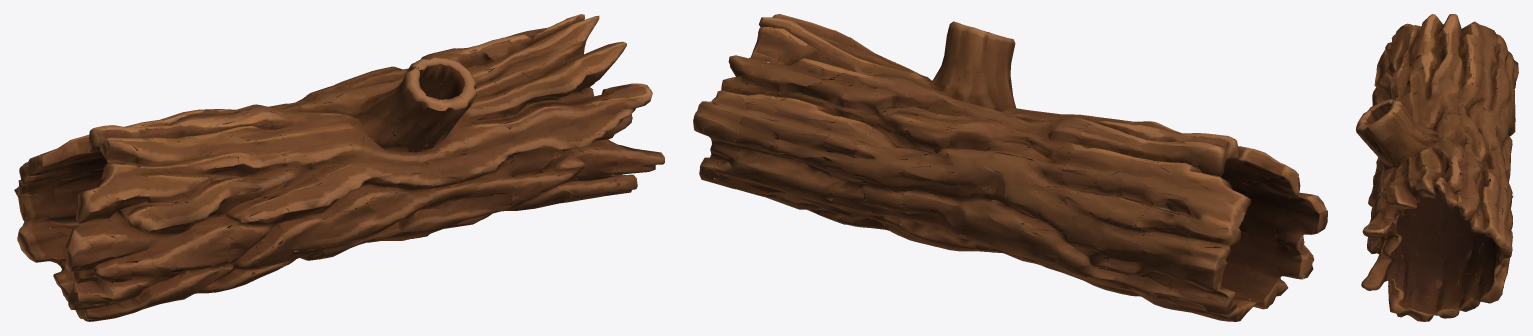
Rendered from driftwood.glb.
3 renders of one model, left to right at view 1: azimuth 30°, elevation 25°; view 2: azimuth 150°, elevation 25°; view 3: azimuth 270°, elevation 25°, orthographic. The views are drawn at different scales.
Visible parts, largest first — view 1: Mesh_0; view 2: Mesh_0; view 3: Mesh_0.
Boxes of the visible parts, <box> form: Mesh_0: <box>14,14,664,321</box>; Mesh_0: <box>693,14,1327,321</box>; Mesh_0: <box>1356,14,1518,321</box>.
Size of the model in its own units: 1.9 by 0.6212 by 0.6124.
1 material, 1 textured.
